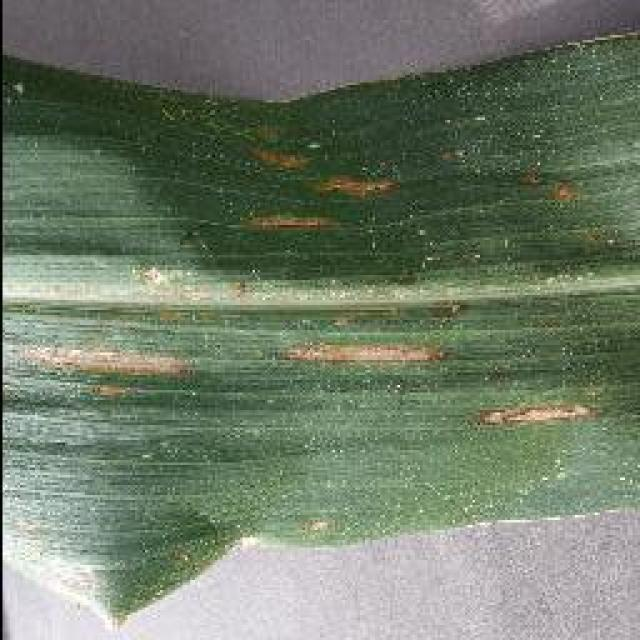Corn_Grey_Leaf_Spot: (0, 88, 640, 500)
